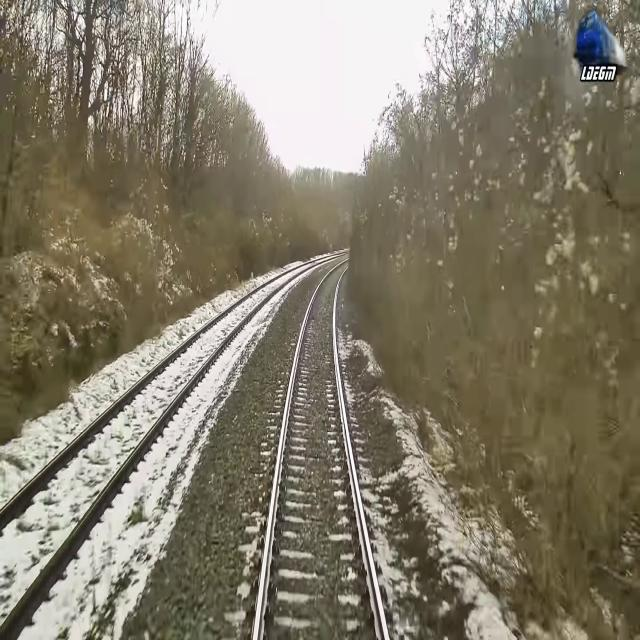rail-track: (0, 254, 337, 626), (258, 260, 384, 639)
